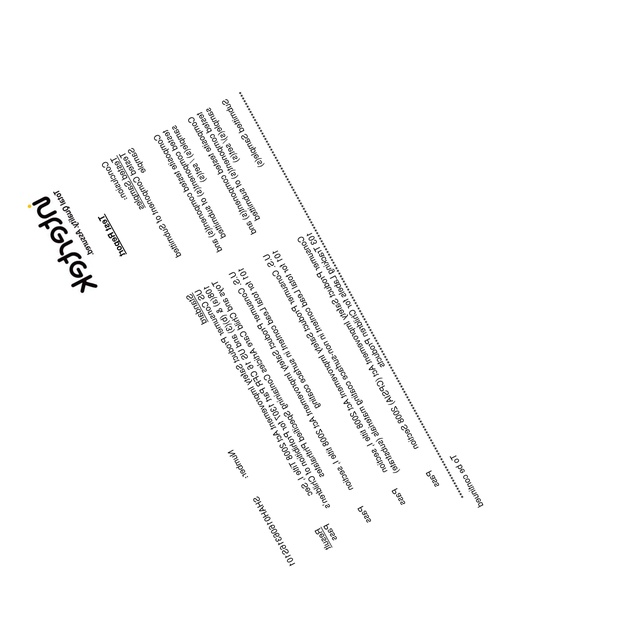intertek: (25, 193, 101, 296)
